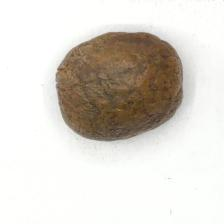NG: (55, 45, 121, 124)
